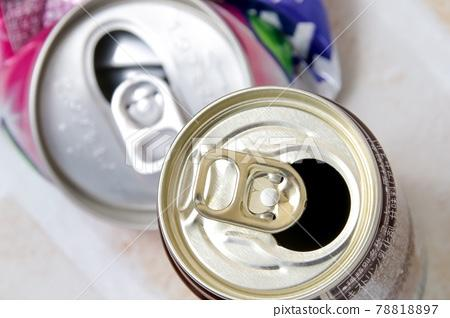metal: (0, 0, 366, 221), (148, 81, 426, 299)
